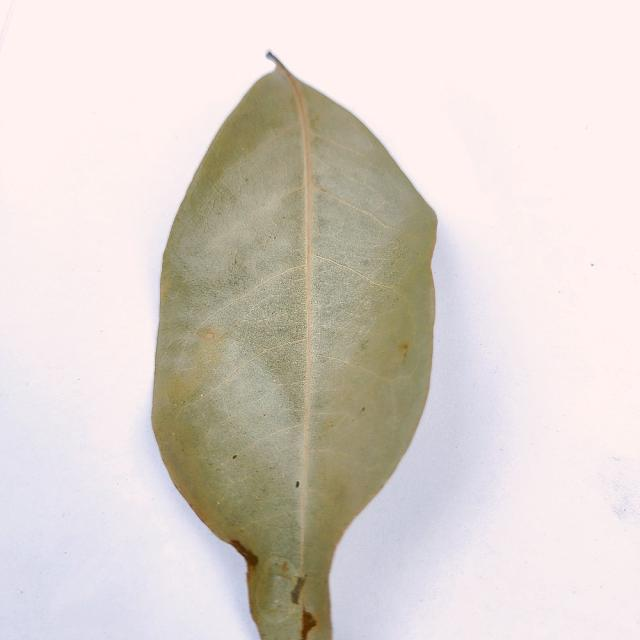Dry_Leaf-Lychee: (150, 54, 438, 639)
